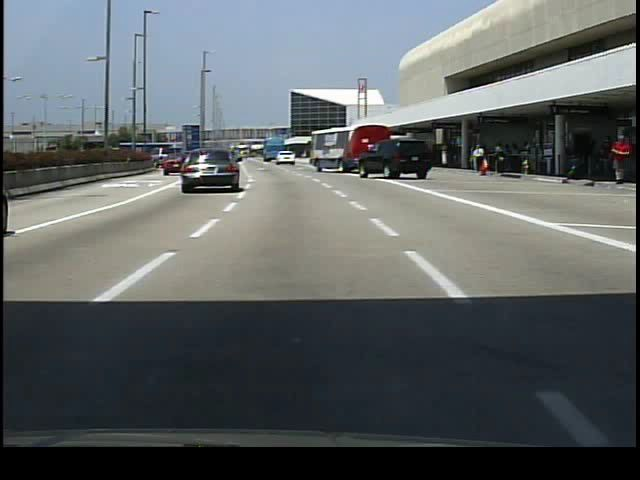person: (608, 133, 631, 184), (472, 141, 488, 177)
